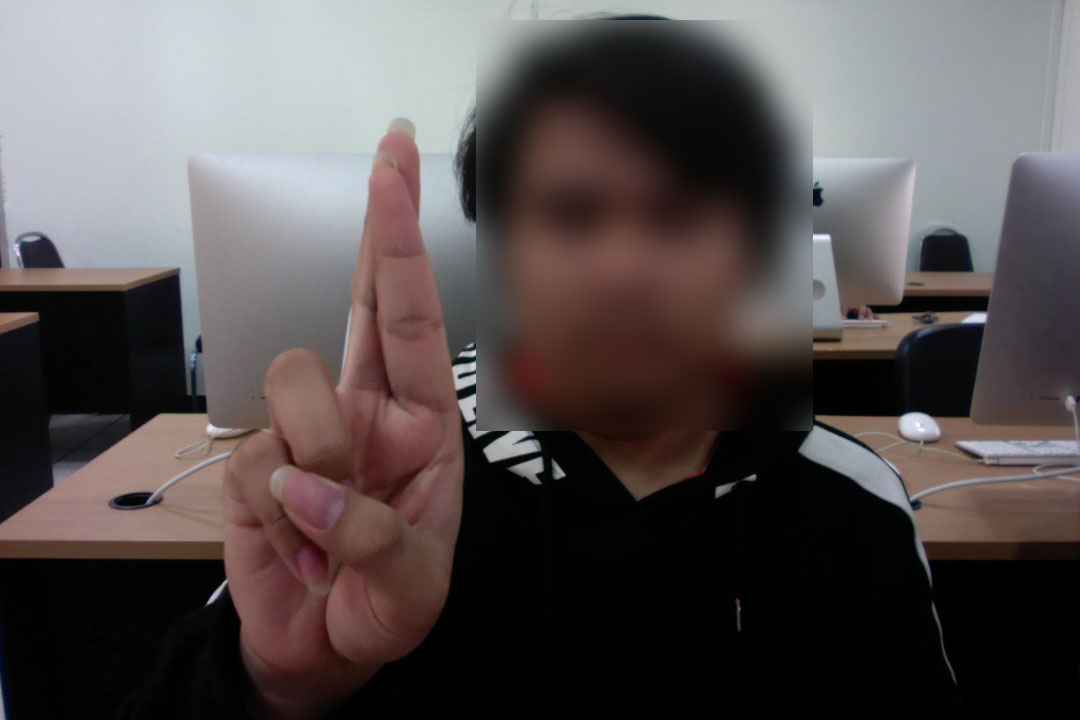rao: (205, 98, 471, 670)
